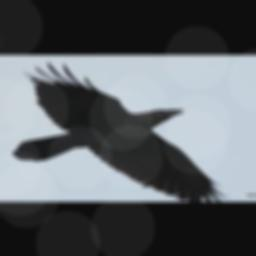Crow: (10, 59, 227, 201)
